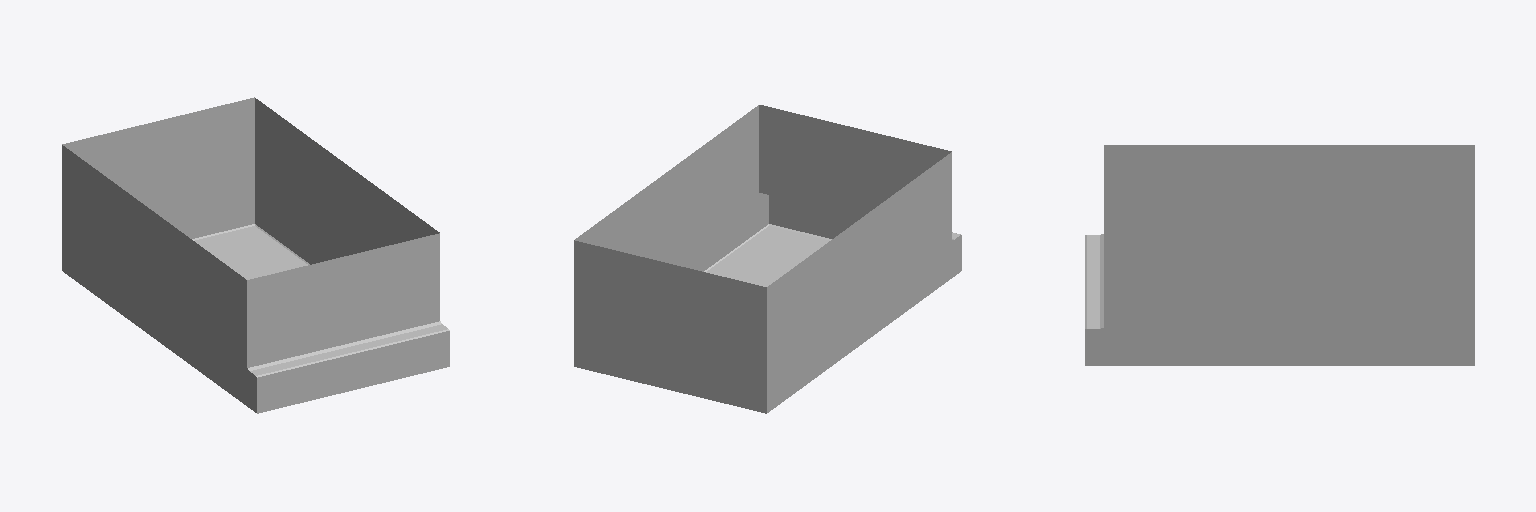
The model's file is wallhole.obj.
3 views of the same model, side by side, from view 1: azimuth 30°, elevation 25°; view 2: azimuth 150°, elevation 25°; view 3: azimuth 270°, elevation 25° (orthographic).
Visible parts, largest first — view 1: Wall_hole_Cube.001; view 2: Wall_hole_Cube.001; view 3: Wall_hole_Cube.001.
Boxes of the visible parts, <box> form: Wall_hole_Cube.001: <box>62,97,449,413</box>; Wall_hole_Cube.001: <box>574,105,961,413</box>; Wall_hole_Cube.001: <box>1085,145,1474,365</box>.
Size of the model in its own units: 1.79 by 1.13 by 3.13.